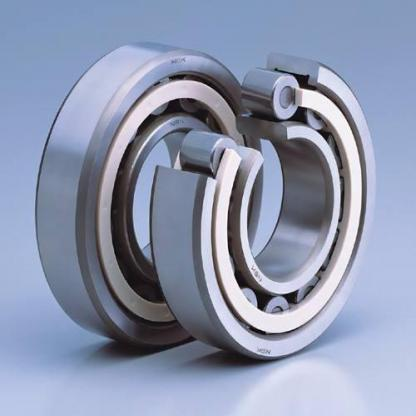FOD: (28, 34, 264, 356), (144, 46, 378, 366)
